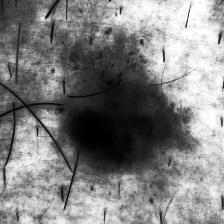Benign Marking or Mole: (62, 50, 173, 169), (69, 107, 134, 161)
